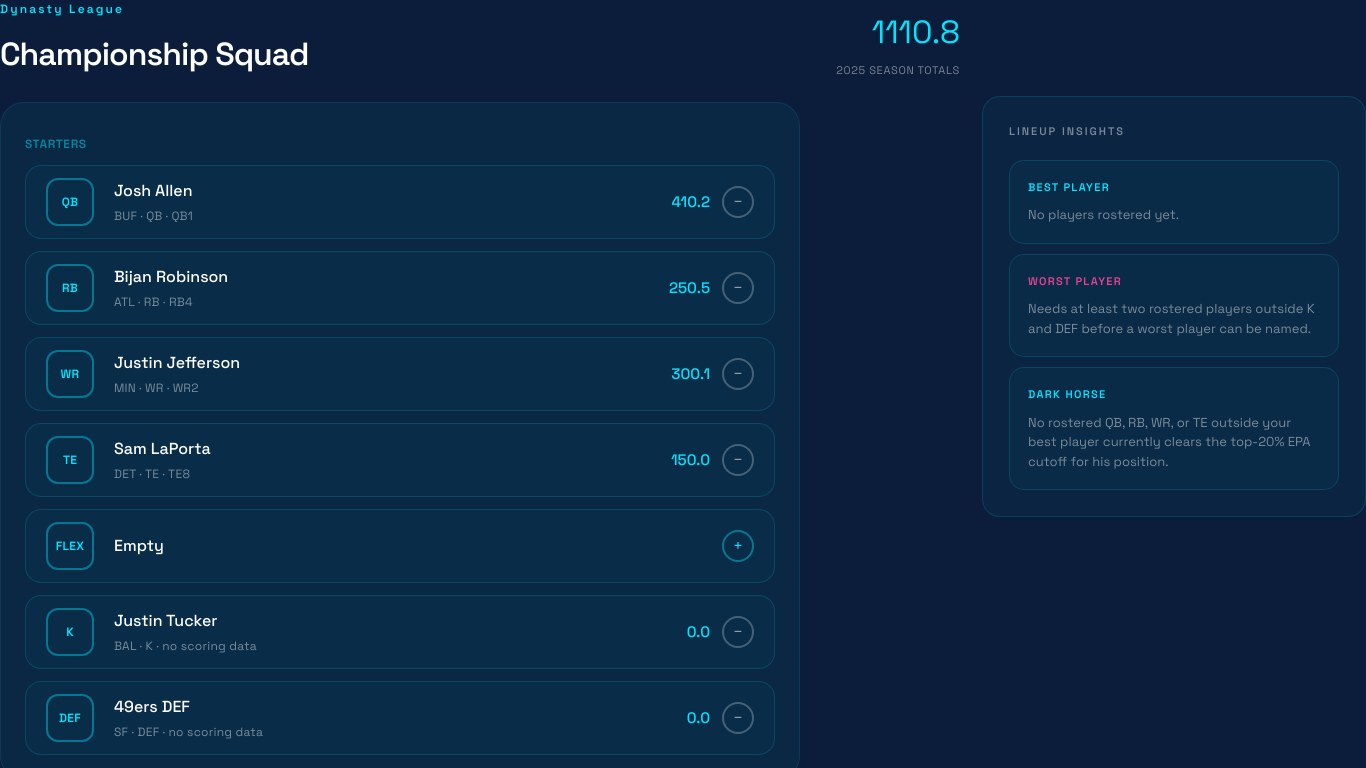
ViewLineupPanel › shows an error toast and leaves the lineup unchanged when a remove-player request fails
The width and height of the screenshot is (1366, 768).
Expected: the text "Justin Jefferson" is shown, [114, 352, 240, 373]
Click the button named "Remove player from WR": {"x": 738, "y": 374} [722, 358, 754, 390]
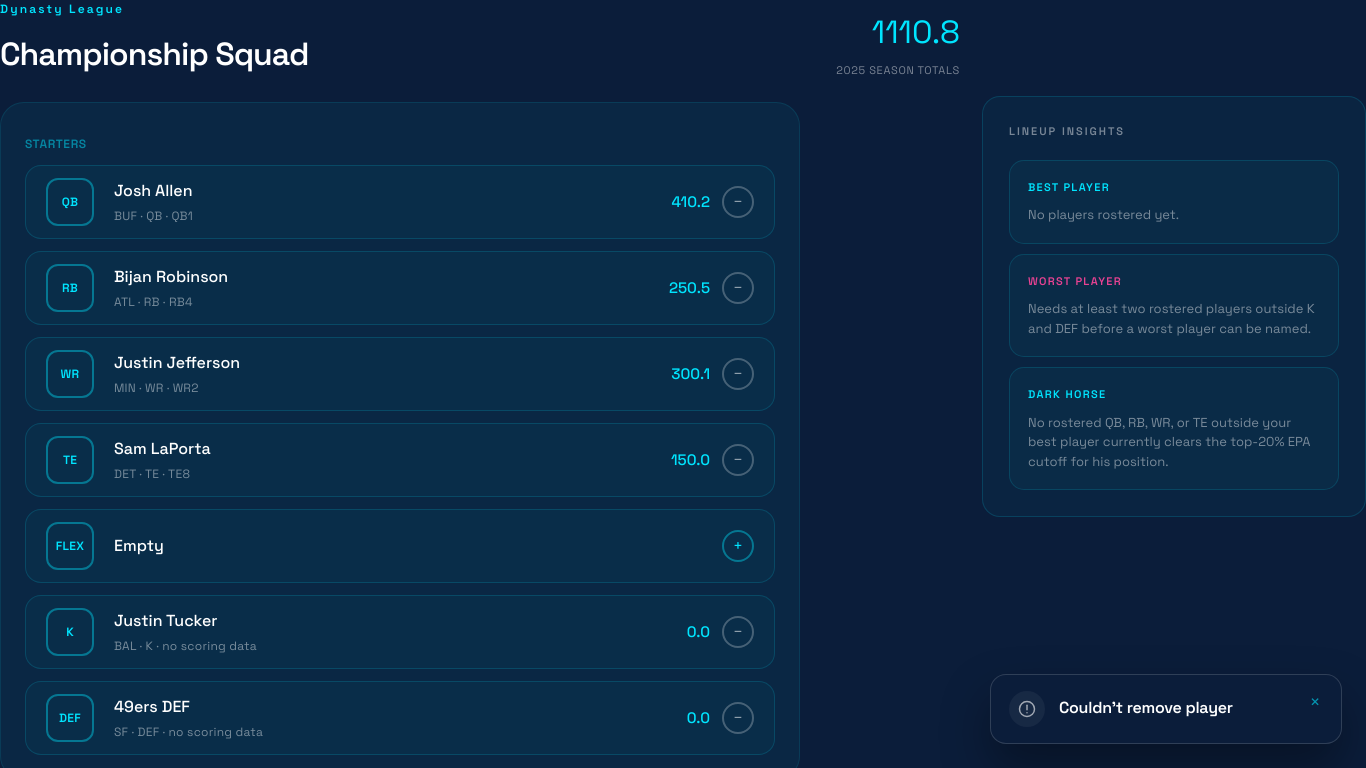
Expected: the text "Justin Jefferson" is shown, [114, 352, 240, 373]
Now the text "Couldn't remove player" is shown, box [1059, 698, 1233, 718]
